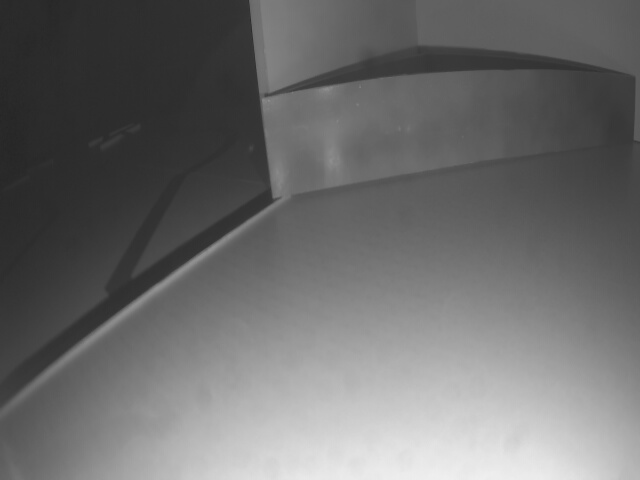Red: (268, 75, 636, 201)
